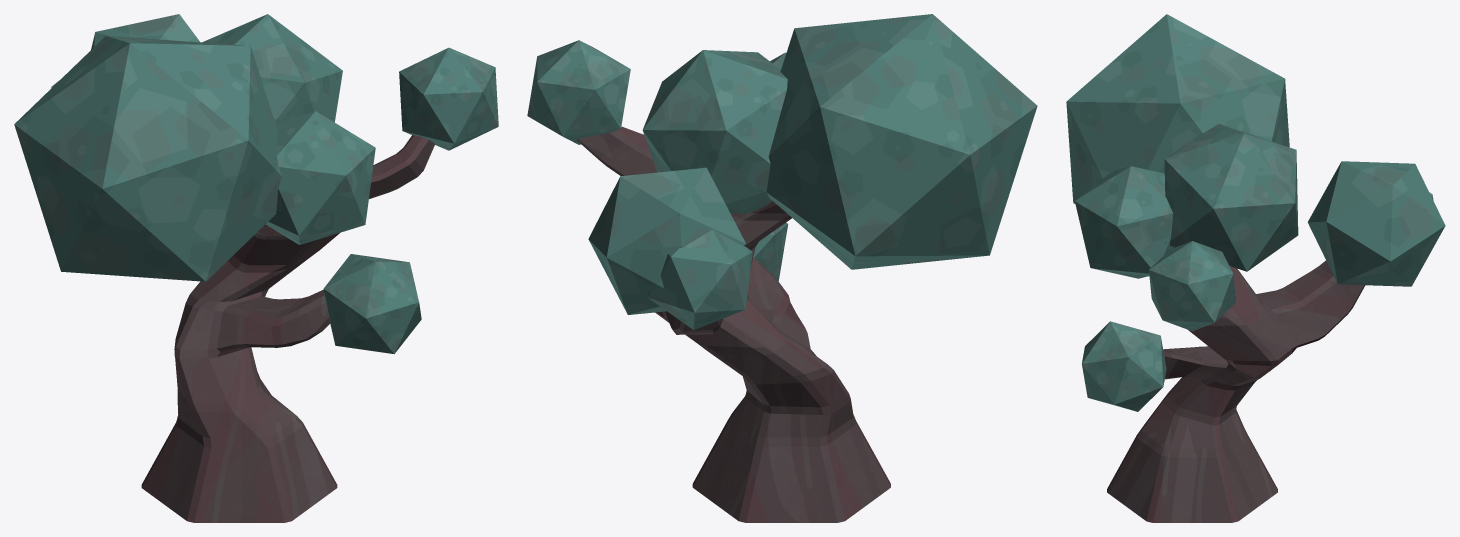
Rendered from Tree1.fbx.
3 views of the same model, side by side, from view 1: azimuth 30°, elevation 25°; view 2: azimuth 150°, elevation 25°; view 3: azimuth 270°, elevation 25° (orthographic). The views are drawn at different scales.
Parts seen in each view (by area): view 1: tree1; view 2: tree1; view 3: tree1.
Part boxes in pixels (box(x1,y1,x2,y2)): tree1: box(14, 14, 498, 522); tree1: box(527, 14, 1037, 522); tree1: box(1066, 14, 1445, 522).
Bounding box in the file's own units: 920 × 937 × 760.
